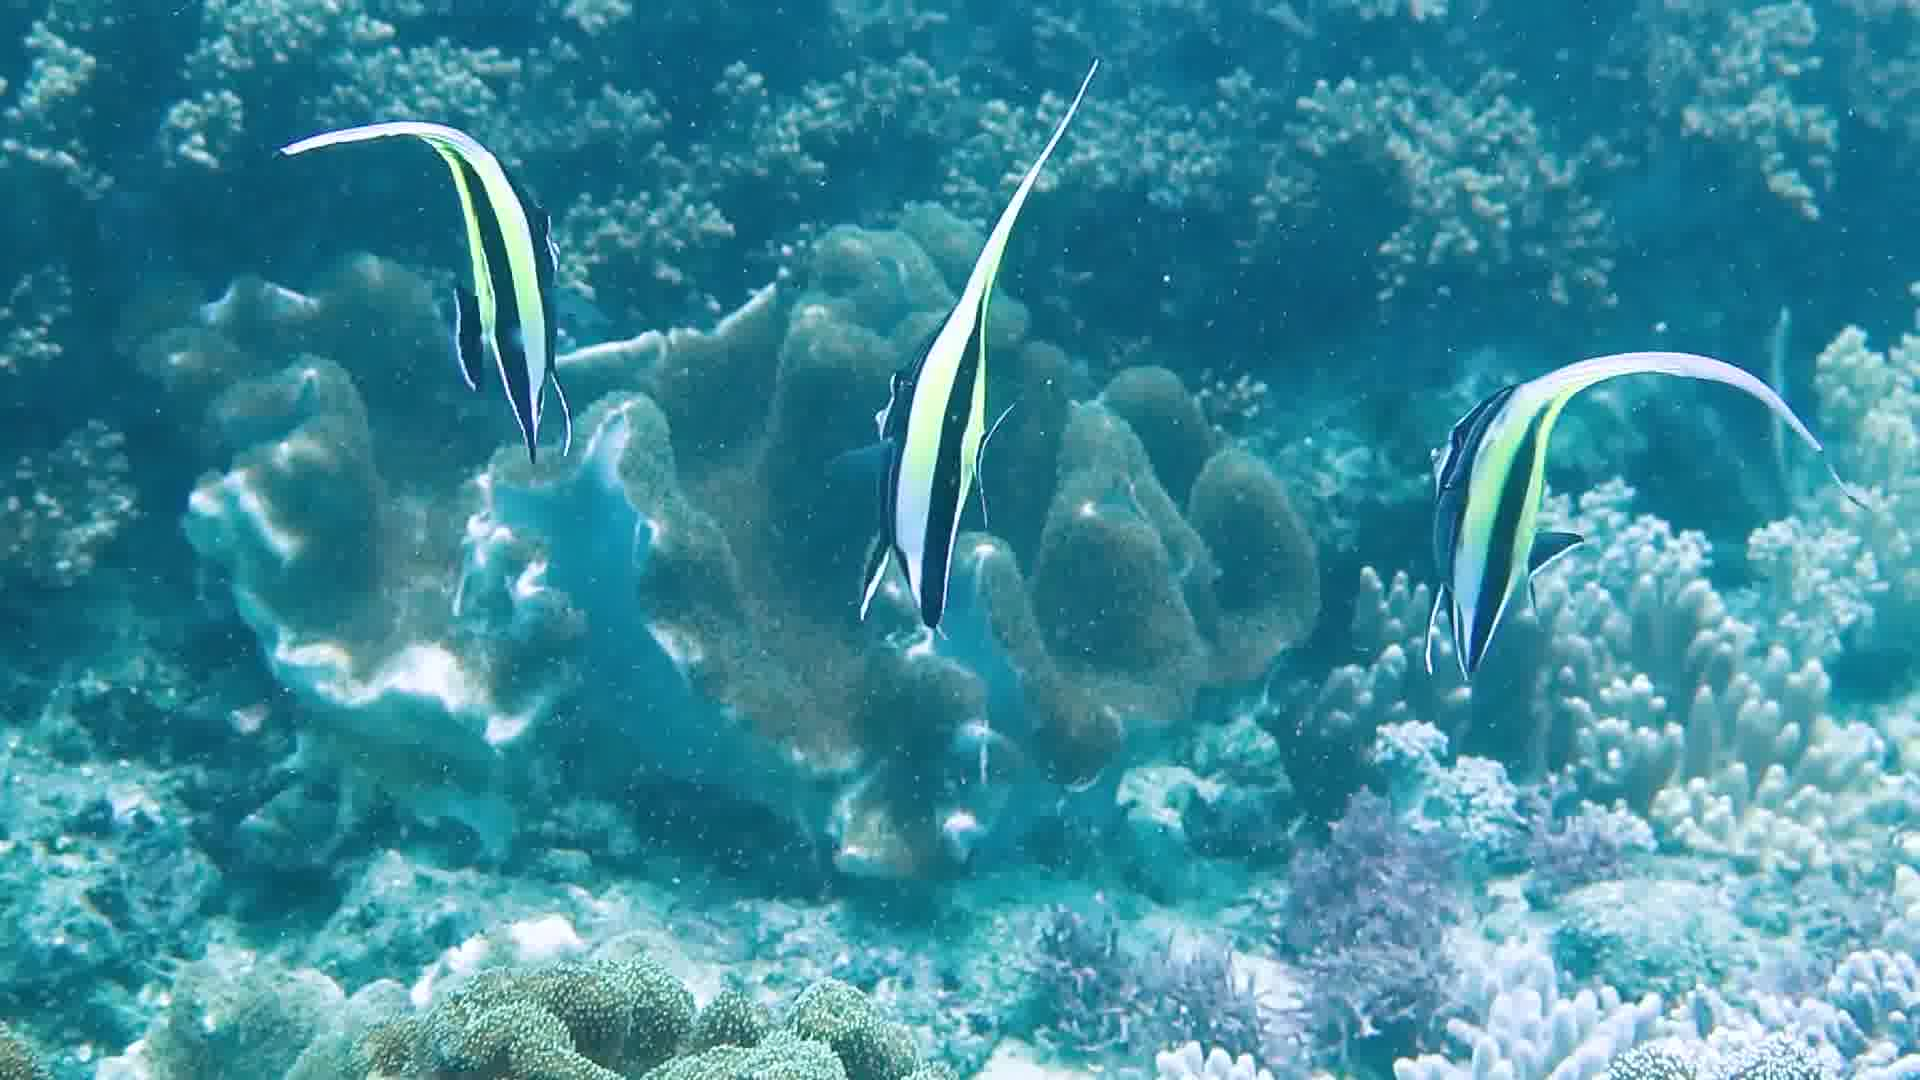Zanclus cornutus: (385, 108, 632, 467), (1398, 277, 1563, 707), (851, 220, 1009, 630)
